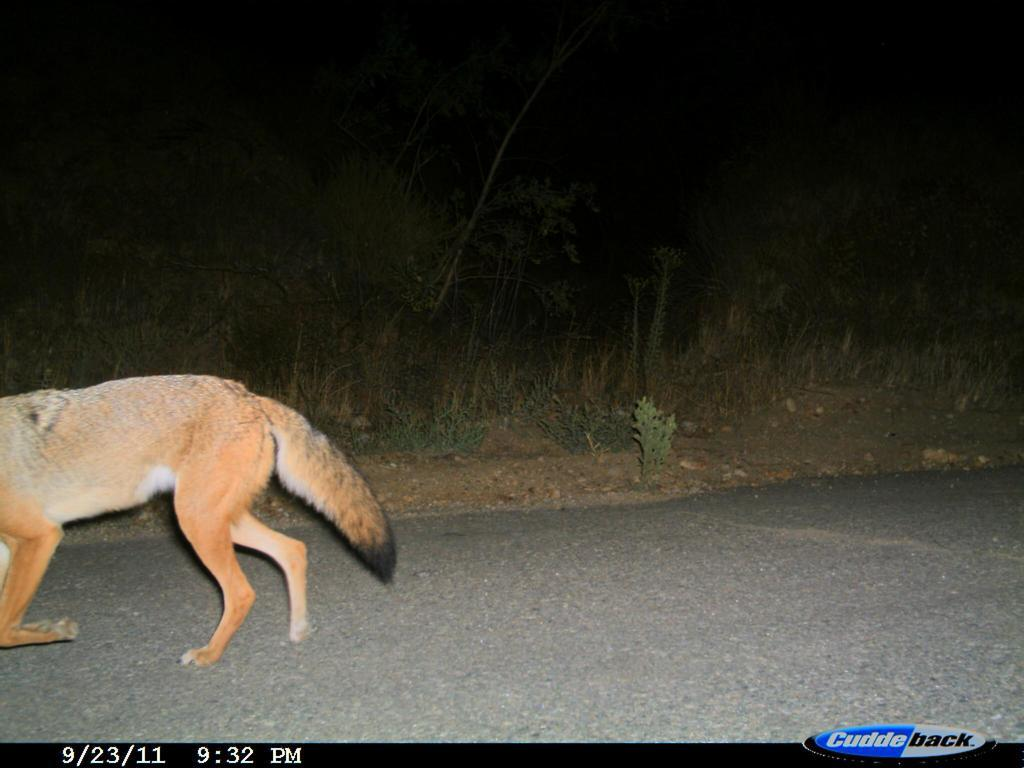coyote: (4, 337, 391, 679)
